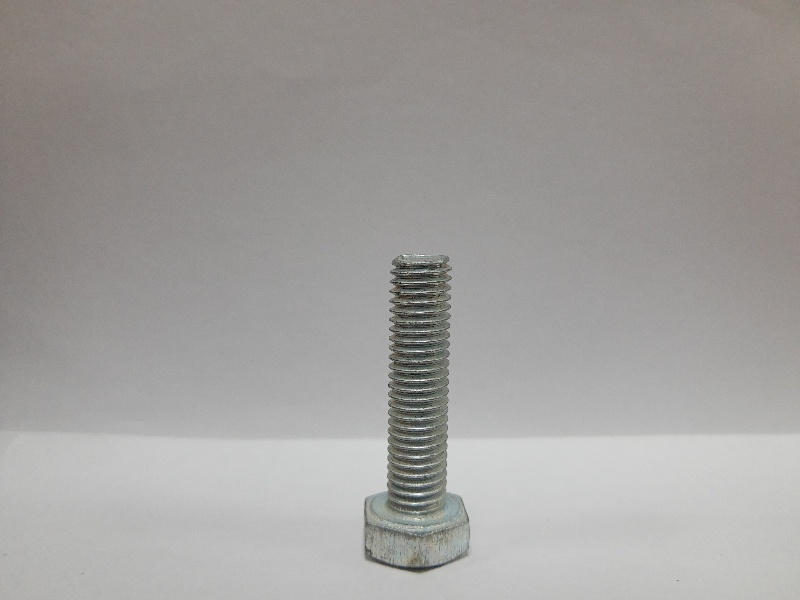pf: (361, 252, 476, 574)
